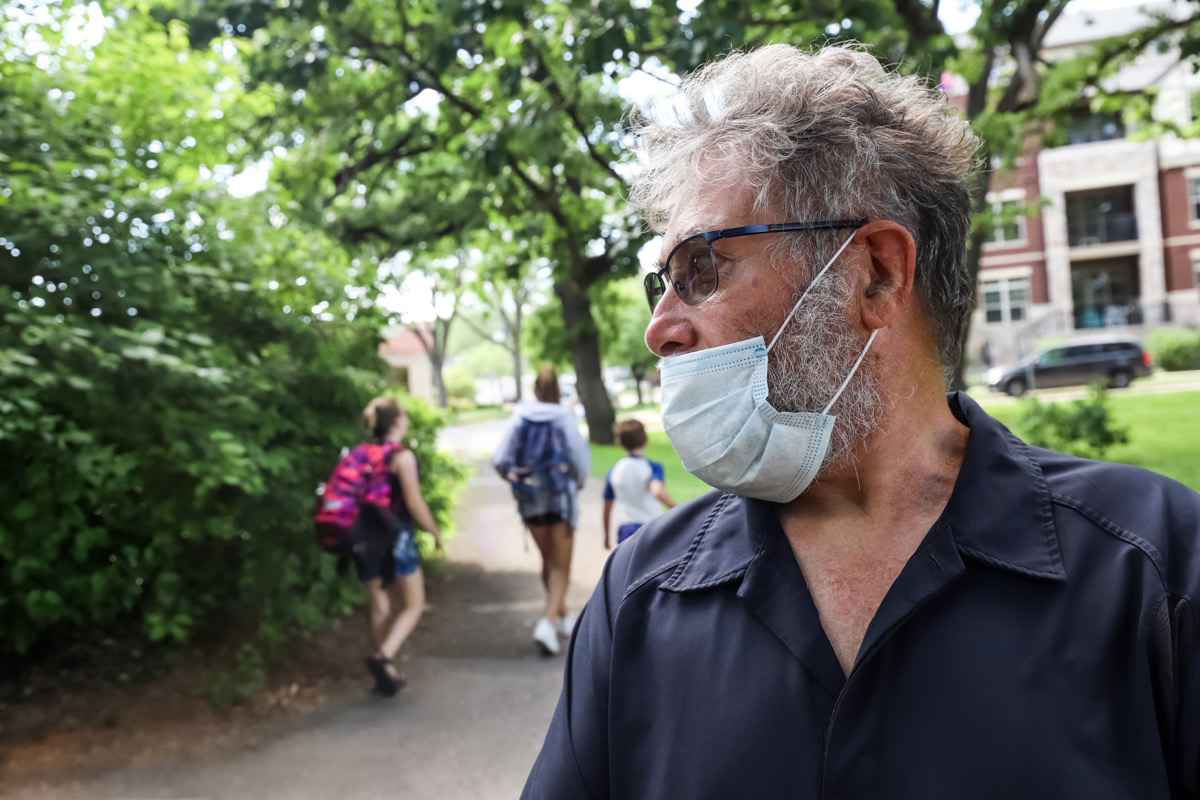mask_weared_incorrect: (635, 219, 852, 507)
